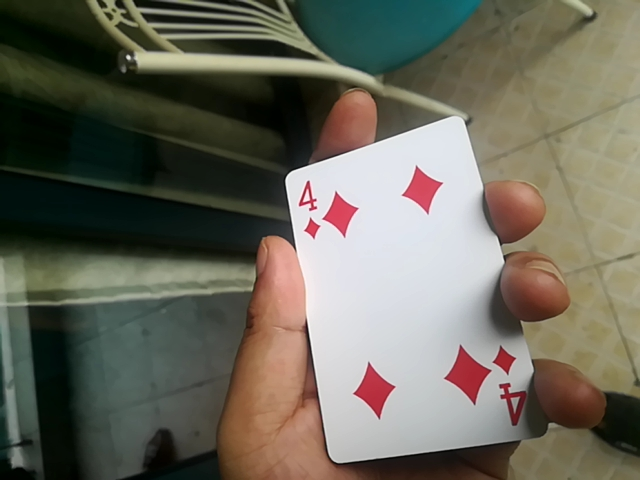fk 4: (283, 105, 537, 473)
